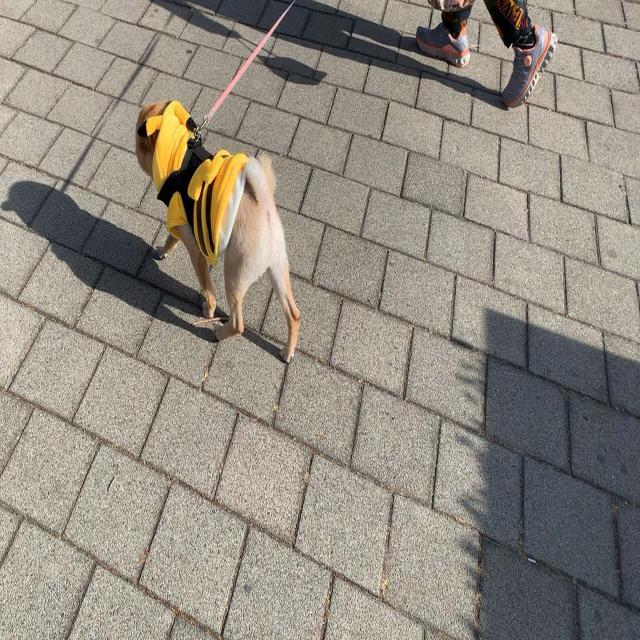Dog: (133, 90, 303, 367)
